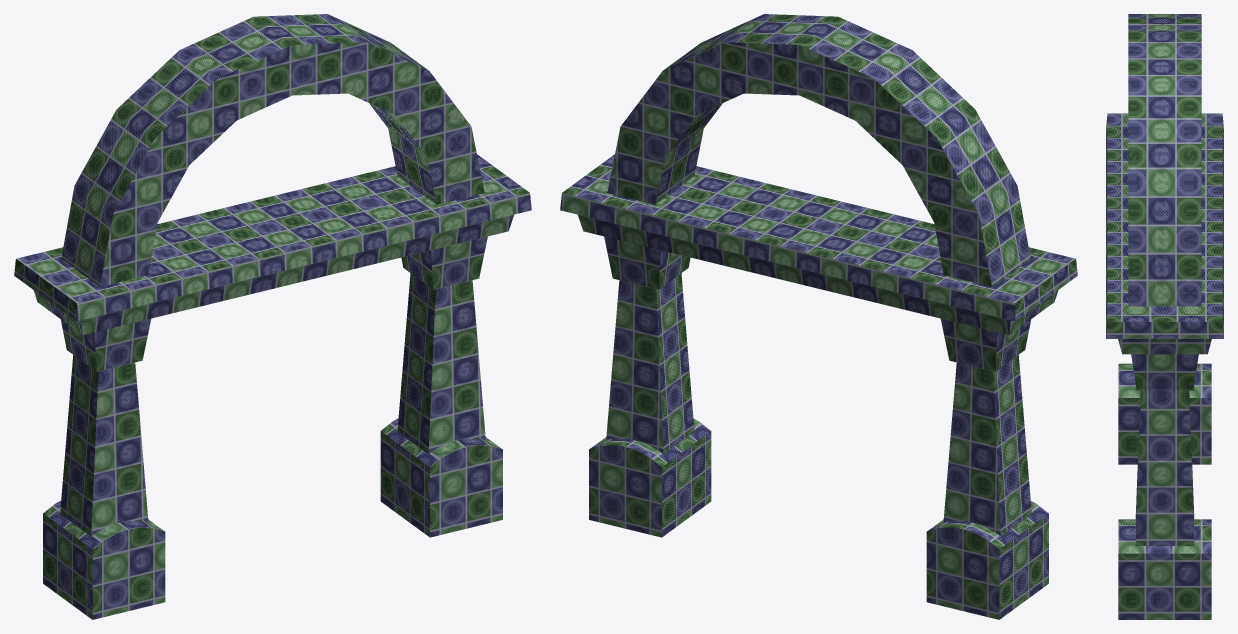
File: ArchwayMesh01.fbx
3 renders of one model, left to right at view 1: azimuth 30°, elevation 25°; view 2: azimuth 150°, elevation 25°; view 3: azimuth 270°, elevation 25°, orthographic. The views are drawn at different scales.
Visible parts, largest first — view 1: Archway01; view 2: Archway01; view 3: Archway01.
Part boxes in pixels (<box>): Archway01: <box>14,14,531,619</box>; Archway01: <box>560,14,1077,619</box>; Archway01: <box>1106,14,1223,619</box>.
Size of the model in its own units: 7.59 by 8.3 by 1.8.
Materials: 1 (1 with a texture image).
